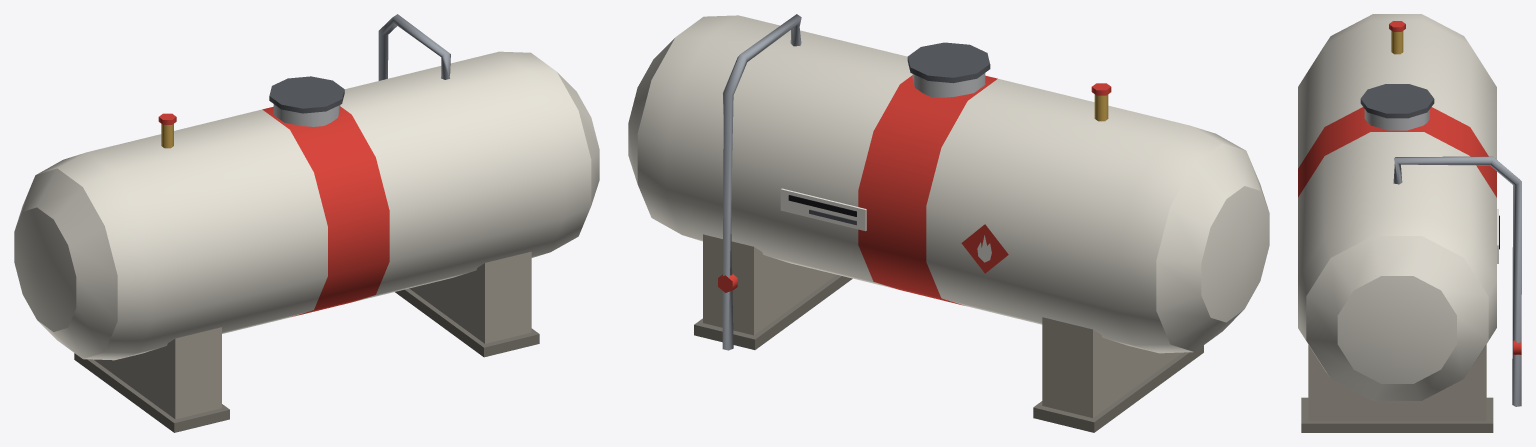
The model's file is prop_gas_tank_large.glb.
3 renders of one model, left to right at view 1: azimuth 30°, elevation 25°; view 2: azimuth 150°, elevation 25°; view 3: azimuth 270°, elevation 25°, orthographic. The views are drawn at different scales.
Visible parts, largest first — view 1: prop_gas_tank_large__mesh; view 2: prop_gas_tank_large__mesh; view 3: prop_gas_tank_large__mesh.
Part boxes in pixels (bbox=[...]): prop_gas_tank_large__mesh: bbox=[14, 14, 599, 432]; prop_gas_tank_large__mesh: bbox=[628, 14, 1269, 432]; prop_gas_tank_large__mesh: bbox=[1298, 14, 1521, 432].
Size of the model in its own units: 3.5 by 1.66 by 1.31.
Materials: 1 (1 with a texture image).
